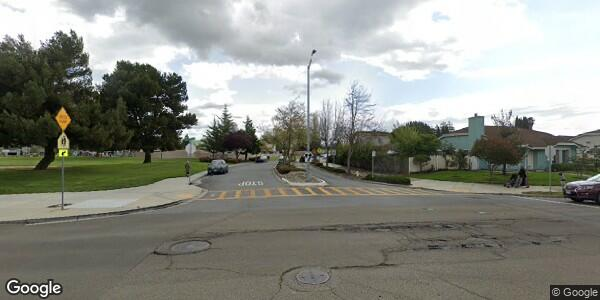Steel_Pole: (303, 47, 318, 182)
